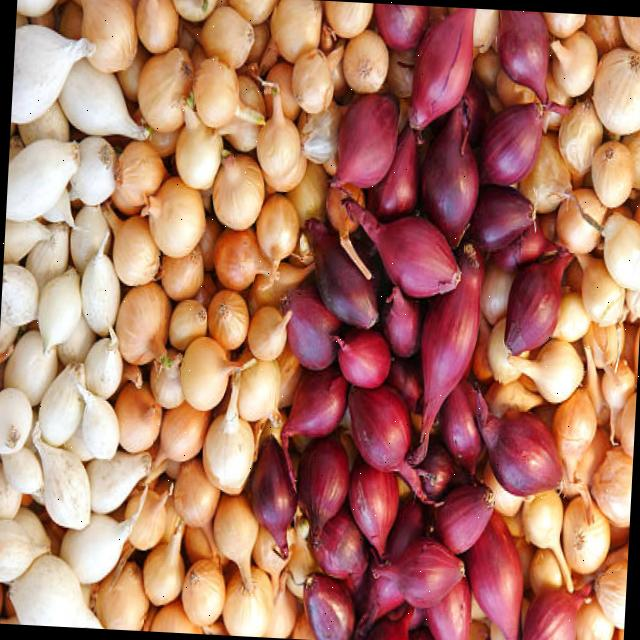Onion: (407, 242, 482, 466), (344, 198, 459, 295), (475, 391, 561, 496), (420, 99, 478, 245), (280, 365, 347, 487), (11, 23, 92, 121), (409, 7, 475, 127), (306, 218, 377, 327), (466, 512, 522, 640), (7, 554, 101, 628), (503, 252, 571, 354), (56, 57, 146, 134), (372, 536, 464, 608), (201, 371, 254, 495), (332, 91, 397, 186), (30, 422, 89, 526), (5, 137, 75, 220), (297, 436, 348, 547), (250, 436, 296, 558), (191, 54, 263, 129), (57, 514, 136, 582), (347, 385, 409, 471), (480, 101, 544, 184), (497, 9, 549, 106), (523, 490, 572, 592), (281, 284, 341, 367), (366, 124, 418, 219), (142, 176, 203, 255), (113, 280, 170, 364), (100, 203, 158, 285), (507, 339, 583, 401), (172, 458, 218, 558), (137, 46, 191, 130), (179, 336, 240, 410), (211, 494, 257, 591), (349, 462, 396, 556), (3, 219, 65, 290), (109, 140, 167, 214), (78, 228, 118, 335), (255, 79, 298, 178), (0, 329, 55, 406), (78, 0, 136, 72), (592, 46, 640, 133), (552, 388, 596, 482), (85, 450, 149, 514), (468, 185, 532, 248), (440, 378, 482, 474), (312, 506, 367, 578), (174, 102, 220, 188), (521, 583, 590, 640), (212, 151, 263, 228), (435, 485, 492, 553), (254, 193, 298, 280), (93, 562, 147, 631), (35, 267, 78, 353), (562, 496, 610, 573), (221, 567, 272, 637), (492, 217, 558, 271), (38, 364, 82, 445), (212, 227, 269, 289), (0, 508, 47, 582), (112, 381, 160, 453), (577, 253, 625, 325), (142, 521, 183, 605), (302, 575, 354, 640), (558, 97, 603, 172), (592, 446, 633, 528), (334, 327, 390, 387), (198, 4, 252, 65), (68, 134, 114, 204), (550, 28, 597, 94), (158, 400, 208, 462), (76, 382, 117, 457), (268, 0, 318, 61), (380, 285, 422, 356), (297, 100, 345, 161), (180, 559, 223, 627), (594, 543, 628, 629), (424, 578, 471, 640), (342, 28, 388, 91), (285, 160, 327, 226), (591, 139, 633, 205), (82, 327, 121, 398), (290, 47, 332, 112), (605, 212, 640, 289), (67, 205, 106, 271), (206, 287, 248, 348), (373, 2, 428, 47), (246, 305, 291, 360), (238, 359, 279, 419), (159, 245, 202, 300), (482, 460, 522, 517), (479, 259, 514, 324), (134, 0, 177, 52), (487, 316, 520, 383), (0, 262, 35, 325), (418, 438, 454, 499), (386, 500, 423, 558), (0, 387, 30, 453), (167, 298, 205, 349), (0, 446, 41, 493), (387, 356, 422, 411), (552, 291, 590, 341), (148, 598, 201, 633), (323, 0, 372, 35), (365, 606, 413, 640), (528, 549, 562, 595), (577, 599, 614, 640), (541, 11, 585, 36), (622, 127, 640, 186), (229, 0, 275, 23), (620, 392, 635, 459), (173, 0, 214, 19), (619, 15, 640, 50)
